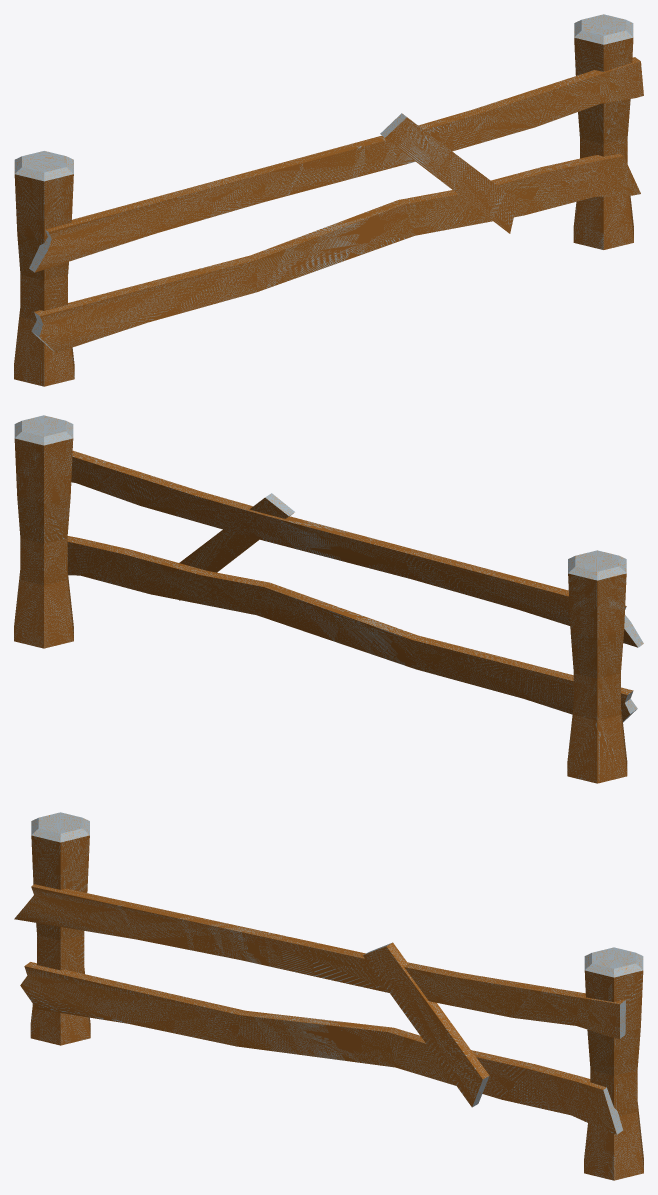
Rendered from Fence_Large_Timber_01.fbx.
3 renders of one model, top to bottom at view 1: azimuth 30°, elevation 25°; view 2: azimuth 150°, elevation 25°; view 3: azimuth 330°, elevation 25°, orthographic.
Parts seen in each view (by area): view 1: Model; view 2: Model; view 3: Model.
Part boxes in pixels (bbox=[...]): Model: bbox=[14, 14, 643, 386]; Model: bbox=[14, 415, 643, 783]; Model: bbox=[14, 812, 643, 1180].
Bounding box in the file's own units: 964 × 312 × 108.
